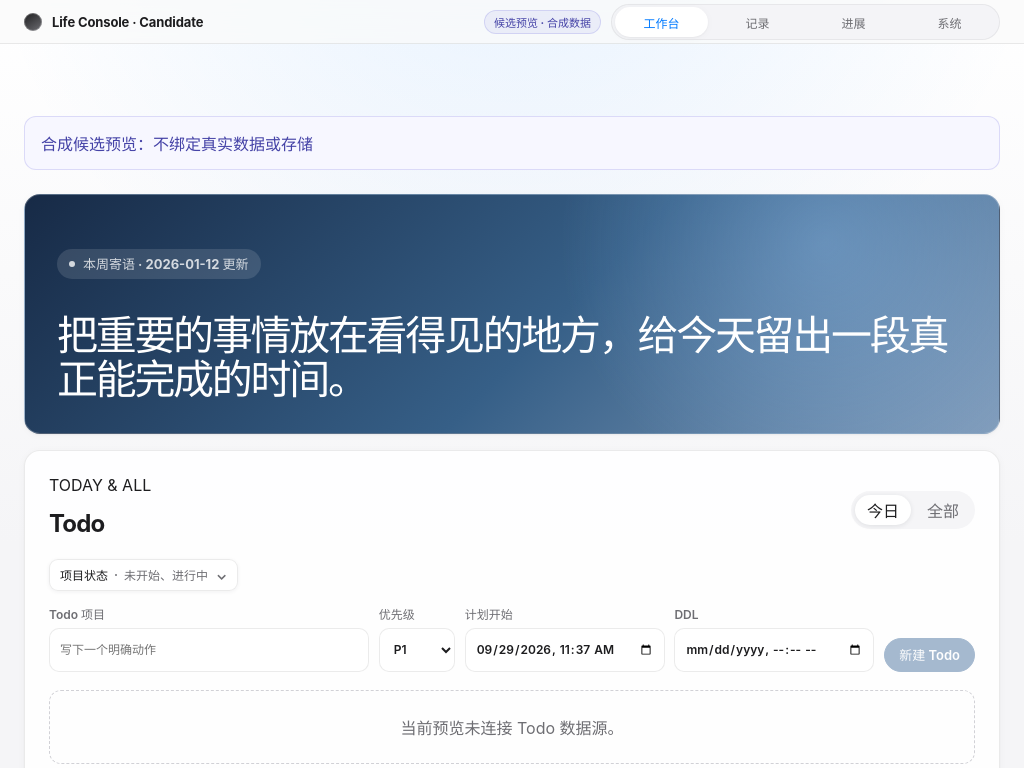
Life Console candidate preview › shows the synthetic journal title and original text below conversation capture
Click the button "记录" at point(757, 22), box [711,7,804,37]
(page scrolled)
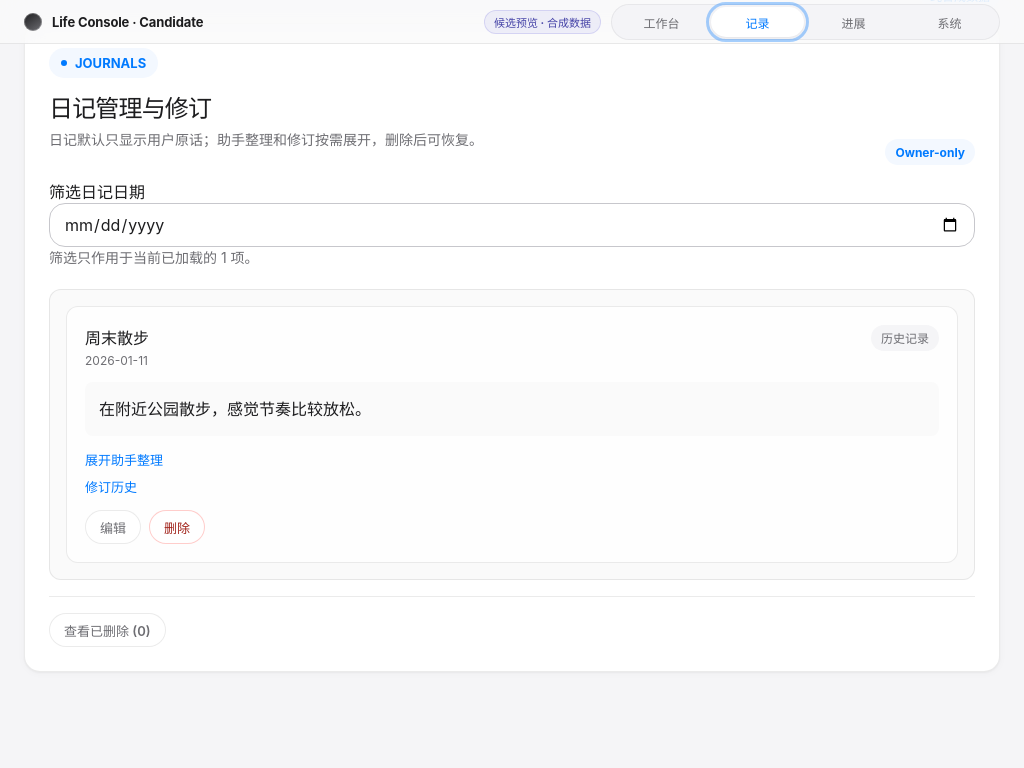
Result: the text "在附近公园散步，感觉节奏比较放松。" is shown at [99,399,371,419]
